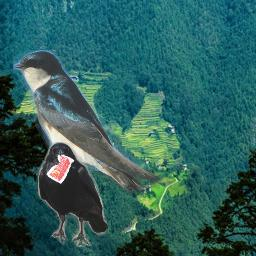Crow: (38, 142, 109, 247)
Swallow: (13, 50, 162, 194)
